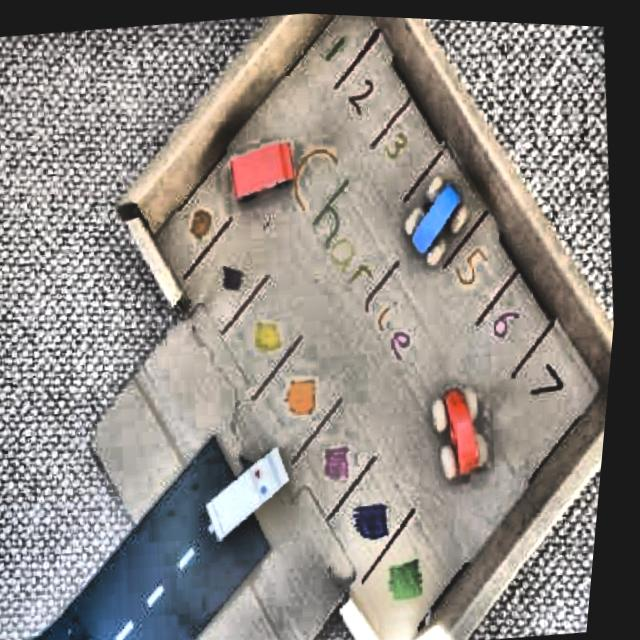Cardbox: (22, 2, 640, 640)
